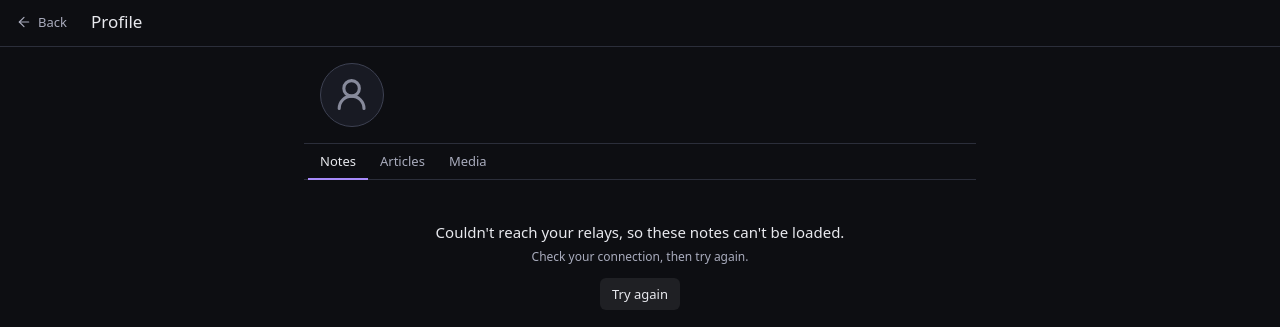
Scenario: ProfileView: the media tab is drawn from the notes › says the relays could not be reached when the notes could not be loaded
Click the tab "Media": point(468, 162) x1=437 y1=144 x2=499 y2=180
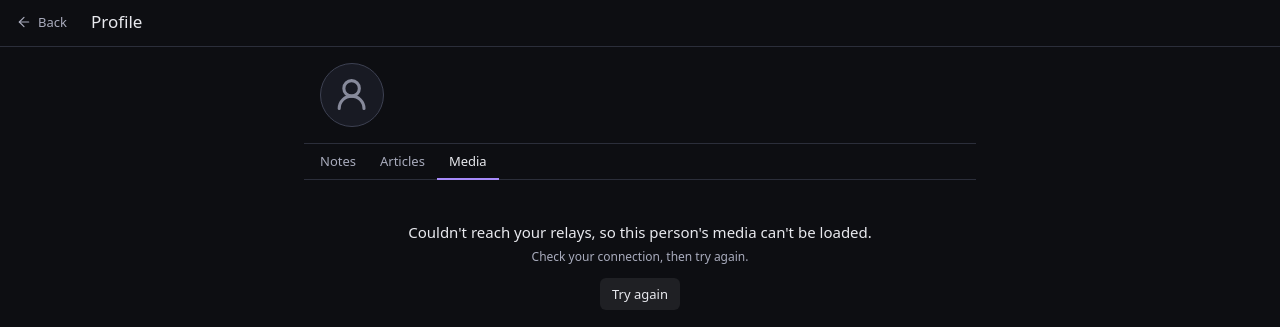
Now the message shows "so this person's media can't be loaded", box x1=408 y1=222 x2=872 y2=242
